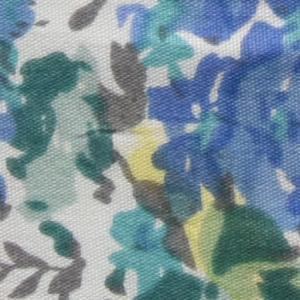Stain: (121, 119, 300, 300)
